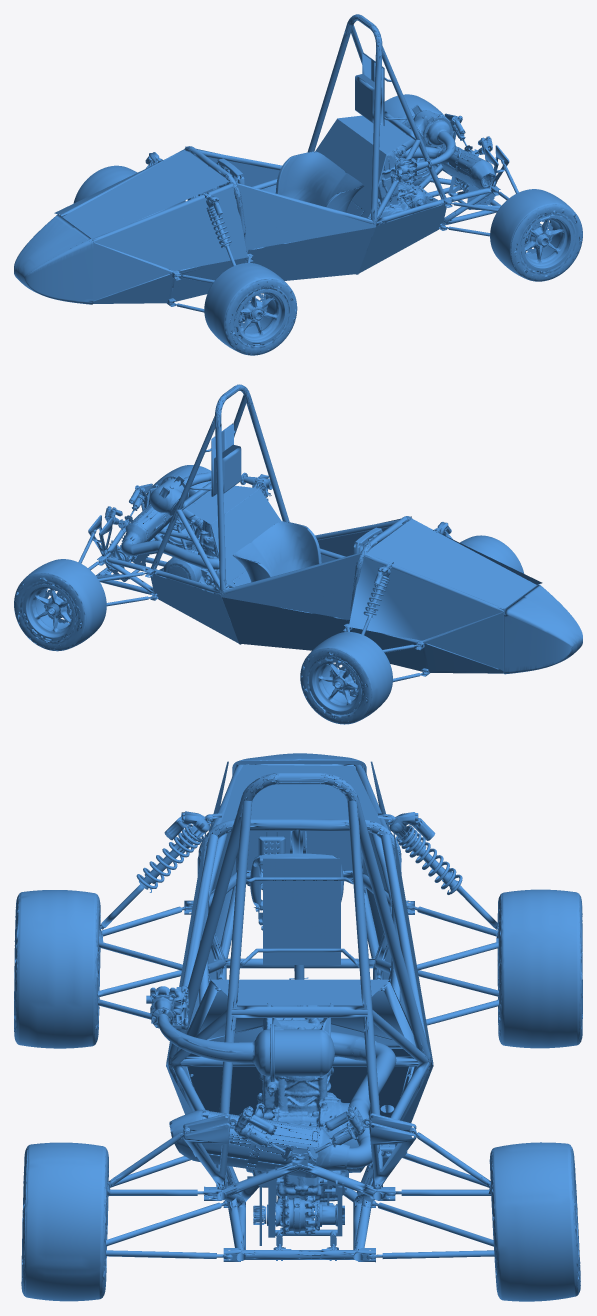
The model's file is helix-car-high.glb.
3 views of the same model, one above another, from view 1: azimuth 30°, elevation 25°; view 2: azimuth 150°, elevation 25°; view 3: azimuth 270°, elevation 25° (orthographic). The views are drawn at different scales.
Parts seen in each view (by area): view 1: Helix Formula Student car; view 2: Helix Formula Student car; view 3: Helix Formula Student car.
Boxes of the visible parts, left/top/right/bottom form: Helix Formula Student car: left=14, top=14, right=582, bottom=355; Helix Formula Student car: left=14, top=384, right=582, bottom=724; Helix Formula Student car: left=14, top=753, right=582, bottom=1301.
Size of the model in its own units: 2.65 by 1.21 by 1.46.
